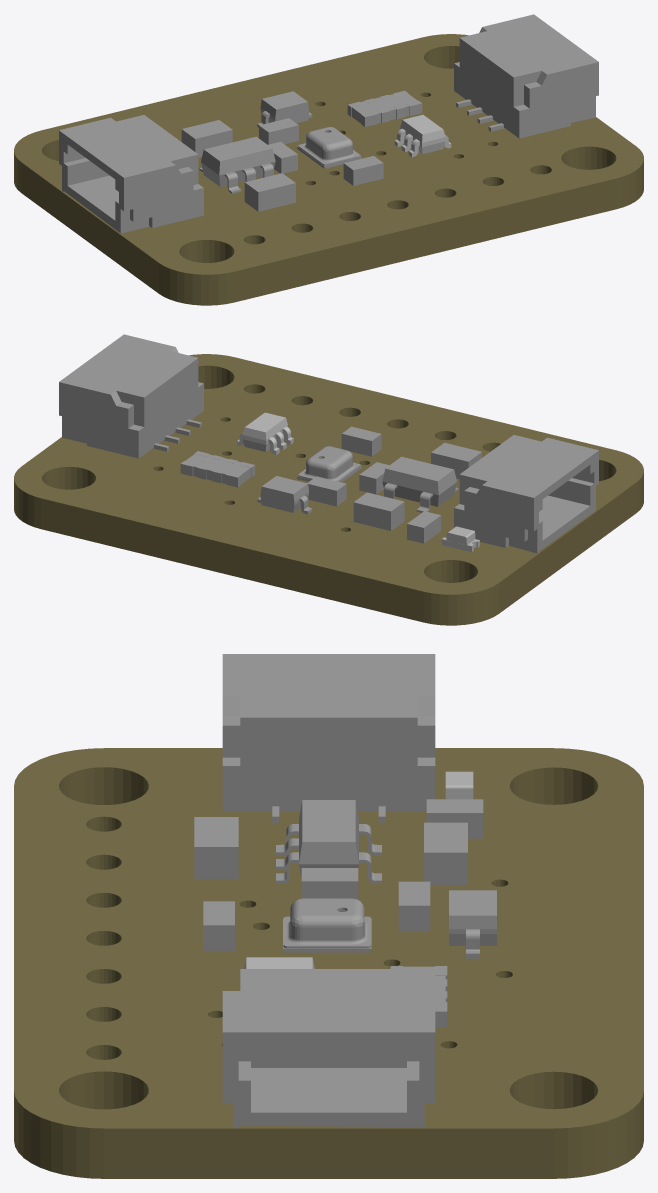
The model's file is adafruit-2652-bme280.glb.
3 views of the same model, one above another, from view 1: azimuth 30°, elevation 25°; view 2: azimuth 150°, elevation 25°; view 3: azimuth 270°, elevation 25° (orthographic). The views are drawn at different scales.
Parts seen in each view (by area): view 1: colour 1, colour 2, colour 3; view 2: colour 1, colour 2, colour 3, colour 4; view 3: colour 1, colour 2, colour 4, colour 3.
Part boxes in pixels (box(x1,y1,x2,y2)): colour 1: box(14, 34, 643, 305); colour 2: box(59, 14, 598, 233); colour 3: box(394, 114, 451, 157); colour 1: box(14, 354, 643, 625); colour 2: box(59, 334, 598, 553); colour 3: box(237, 412, 293, 455); colour 4: box(441, 526, 479, 552); colour 1: box(14, 748, 643, 1178); colour 2: box(194, 654, 496, 1127); colour 4: box(445, 771, 473, 799); colour 3: box(244, 957, 314, 968).
Size of the model in its own units: 0.0254 by 0.00453 by 0.0178.
